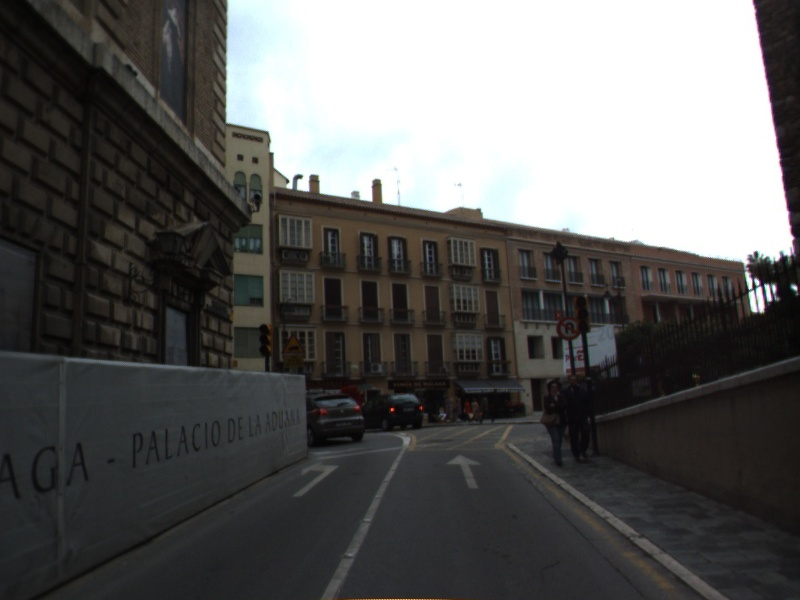LEFT: (290, 460, 342, 499)
STRAIGHT: (444, 452, 485, 491)
